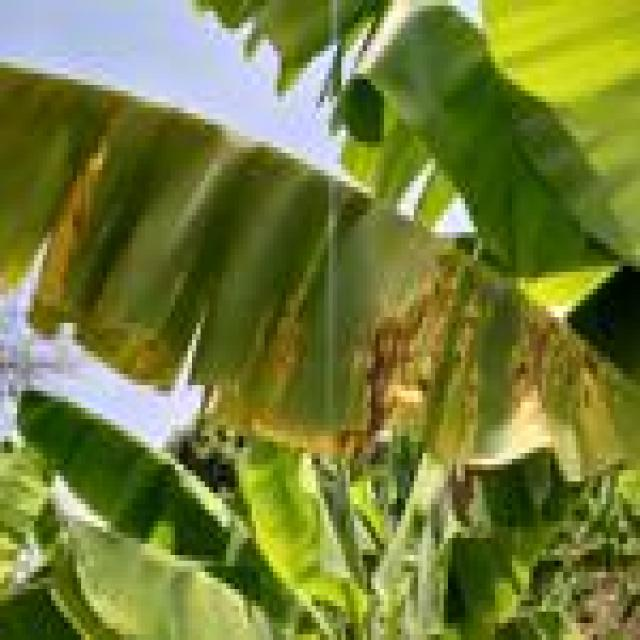Early_rust: (0, 39, 610, 498)
